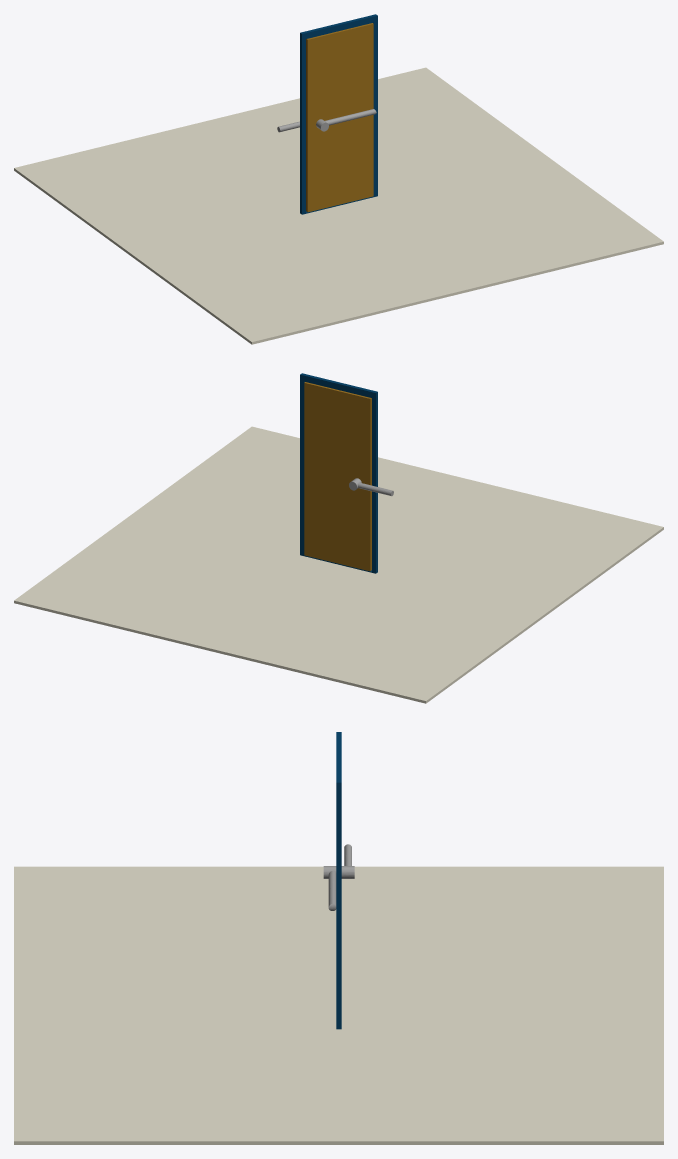
File: Full_door_v4_assembly.3dxml.glb
3 views of the same model, one above another, from view 1: azimuth 30°, elevation 25°; view 2: azimuth 150°, elevation 25°; view 3: azimuth 270°, elevation 25° (orthographic). The views are drawn at different scales.
Parts seen in each view (by area): view 1: geometry_0; view 2: geometry_0; view 3: geometry_0.
Part boxes in pixels (x1,y1,x2,y2): geometry_0: (14,14,663,344); geometry_0: (14,373,663,703); geometry_0: (14,732,663,1144).
Size of the model in its own units: 5 by 2.12 by 5.
